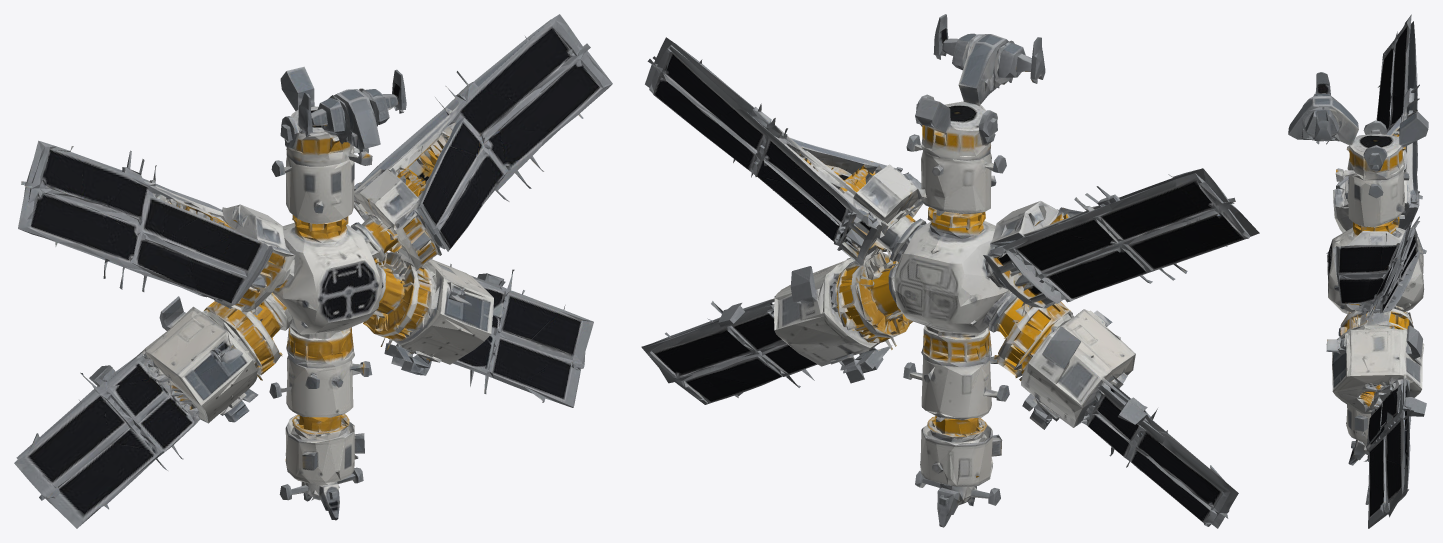
Rendered from web.glb.
The picture shows the model from 3 angles, left to right: view 1: azimuth 30°, elevation 25°; view 2: azimuth 150°, elevation 25°; view 3: azimuth 270°, elevation 25°; orthographic projection. The views are drawn at different scales.
Parts seen in each view (by area): view 1: output_unwrapped; view 2: output_unwrapped; view 3: output_unwrapped.
Boxes of the visible parts, x1,y1,x2,y2 form: output_unwrapped: (14,14,612,528); output_unwrapped: (641,14,1259,528); output_unwrapped: (1288,14,1428,528).
Size of the model in its own units: 1.9 by 1.37 by 0.4669.
1 material, 1 textured.
